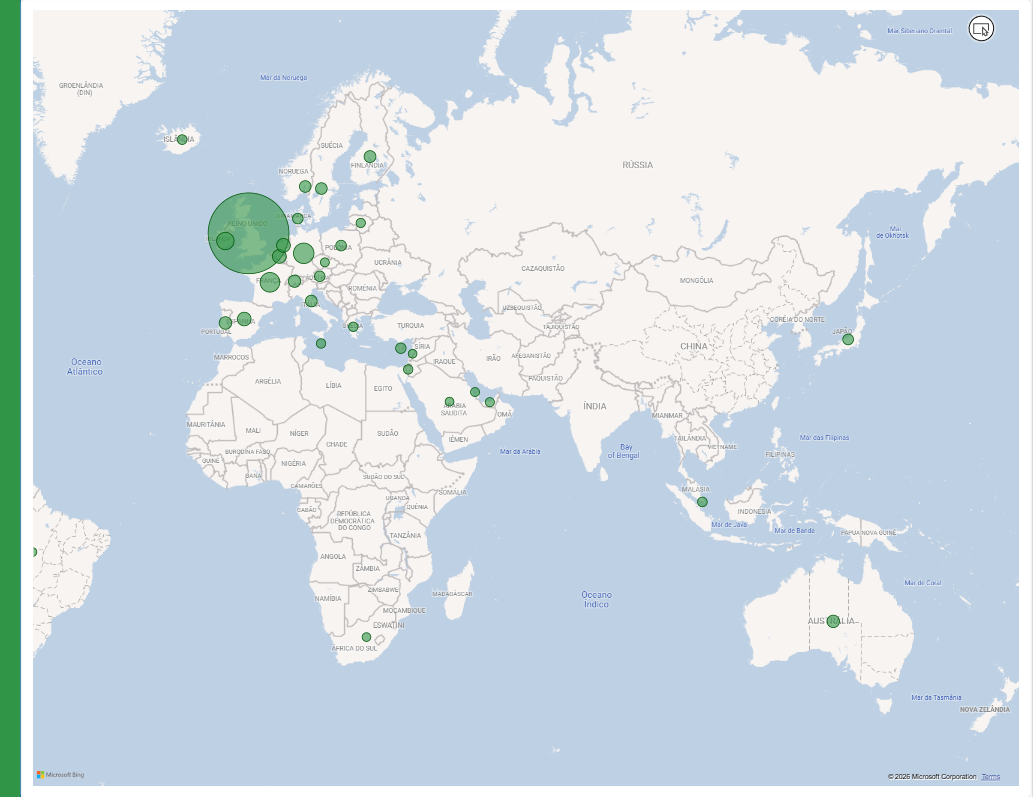

What the dashboard file says about the page in this screenshot:
{"tool":"powerbi","page":{"name":"Map ","canvas":[1380,1066],"ordinal":1},"visuals":[{"type":"shape","box":[0,0,32,1080],"z":0},{"type":"map","fields":{"Category":["data.Country"],"Size":["Measure.Total order"]},"box":[32,0,1348,1066],"z":1}]}

Visuals, with their boxes in screenshot pixels (x1, y1, x2, y2), scaled from the page's 1380x1066 canvas onto the 1033x797 screenshot:
shape: 0,0,24,796
map - data.Country x Measure.Total order: 24,0,1032,796
